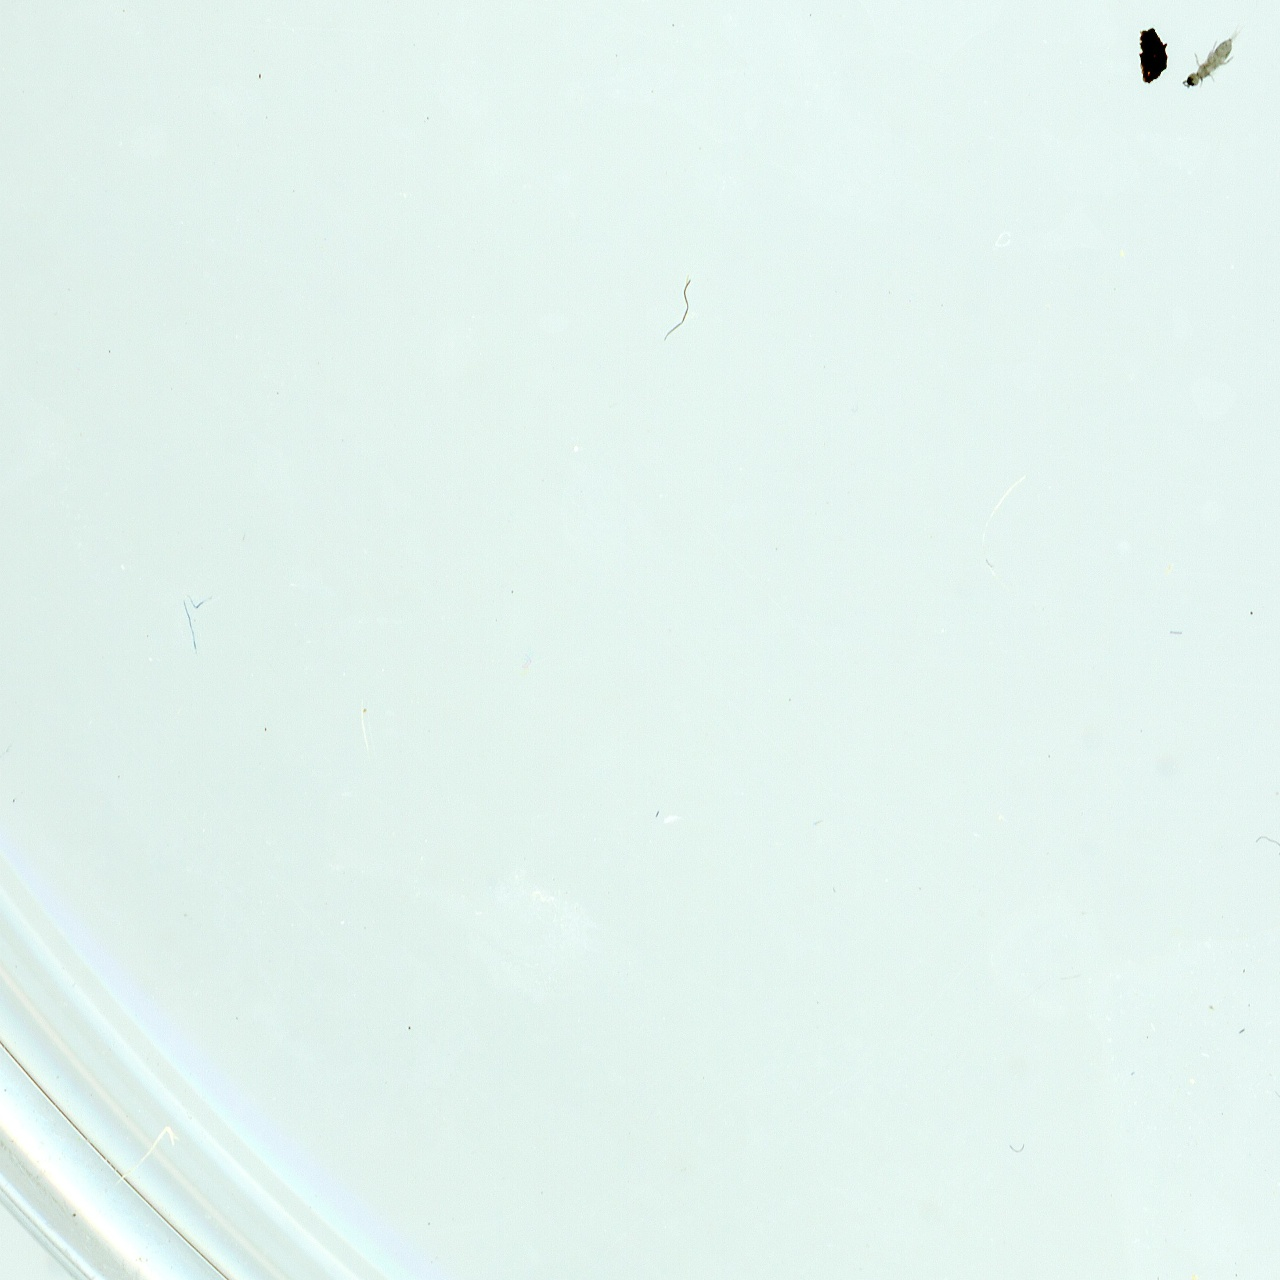arthropod: (1171, 7, 1259, 103)
